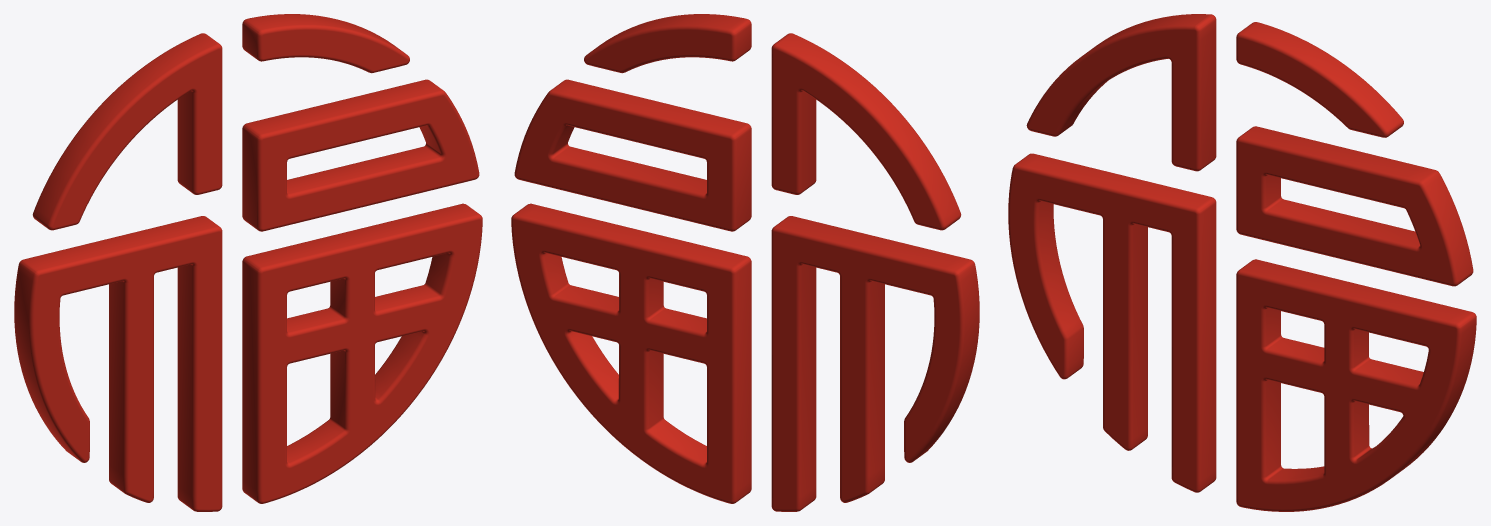
Rendered from fu-trazo-ligera.glb.
The picture shows the model from 3 angles, left to right: view 1: azimuth 30°, elevation 25°; view 2: azimuth 150°, elevation 25°; view 3: azimuth 330°, elevation 25°; orthographic projection.
Visible parts, largest first — view 1: geometry_0; view 2: geometry_0; view 3: geometry_0.
Boxes of the visible parts, bbox=[...] form: geometry_0: bbox=[14, 14, 482, 511]; geometry_0: bbox=[511, 14, 979, 511]; geometry_0: bbox=[1008, 14, 1476, 511].
Bounding box in the file's own units: 0.9996 × 0.9993 × 0.07.
